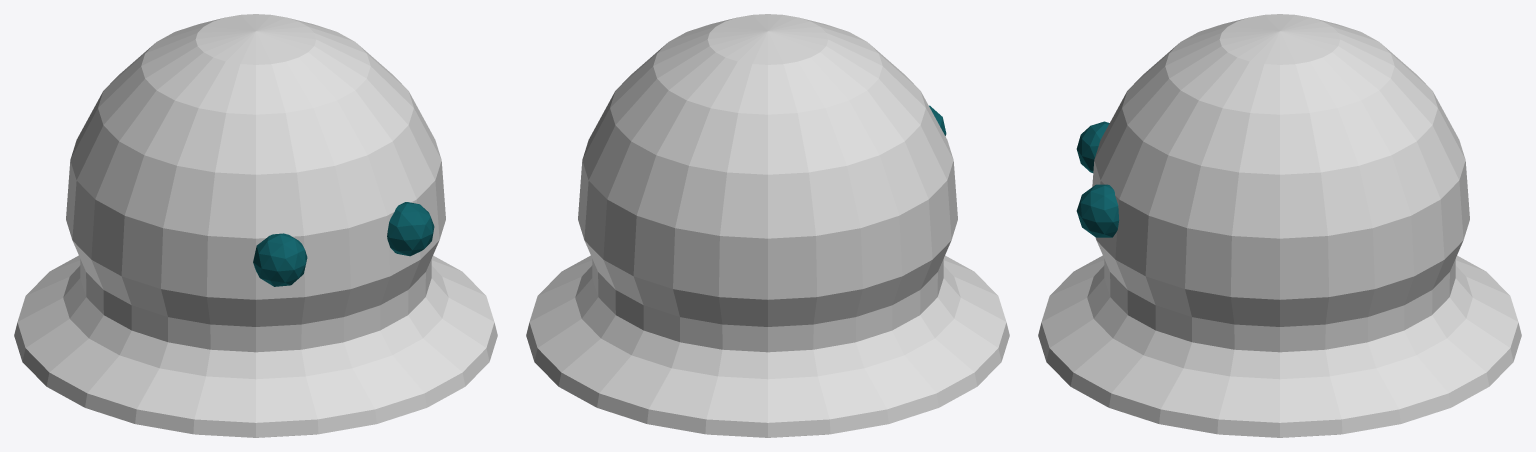
Rendered from Slime.fbx.
3 views of the same model, side by side, from view 1: azimuth 30°, elevation 25°; view 2: azimuth 150°, elevation 25°; view 3: azimuth 270°, elevation 25° (orthographic).
Visible parts, largest first — view 1: Slime; view 2: Slime; view 3: Slime.
Boxes of the visible parts, left/top/right/bottom form: Slime: left=14, top=14, right=497, bottom=437; Slime: left=526, top=14, right=1009, bottom=437; Slime: left=1038, top=14, right=1521, bottom=437.
Size of the model in its own units: 248 by 177 by 248.
